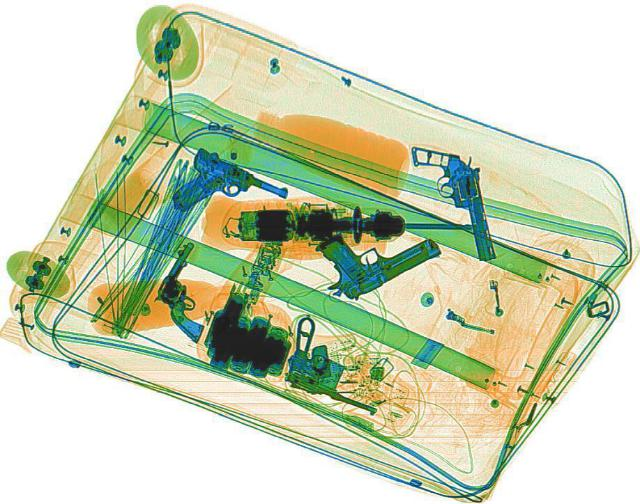Gun: (261, 314, 415, 415), (154, 145, 294, 240), (132, 240, 248, 342), (408, 137, 498, 263), (318, 230, 446, 302)
